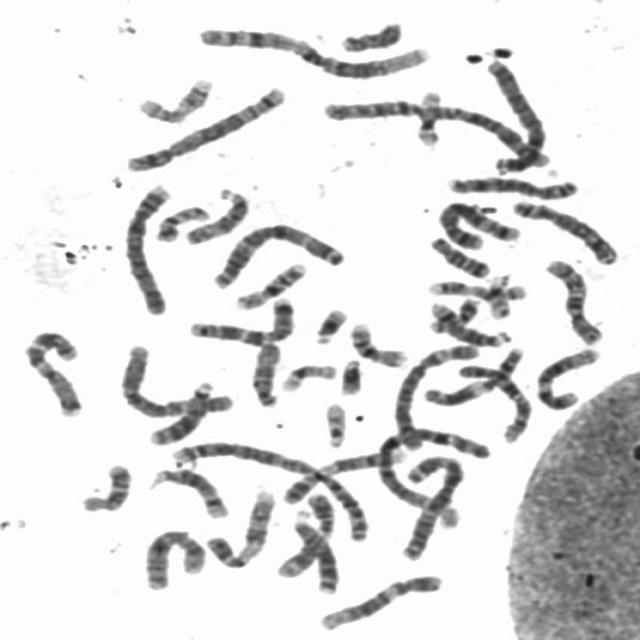A1: (192, 20, 434, 80), (370, 422, 493, 530)
A2: (164, 436, 374, 544), (316, 93, 554, 172)
A3: (206, 217, 348, 290), (396, 449, 468, 562)
B4: (481, 54, 550, 174), (120, 178, 174, 316)
B5: (121, 80, 288, 174), (433, 197, 524, 251)
C10: (455, 358, 536, 444), (540, 252, 606, 346)
C11: (417, 341, 529, 407), (269, 487, 339, 580)
C12: (314, 568, 446, 632), (529, 342, 603, 412)
C6: (390, 339, 483, 452), (115, 339, 237, 418)
C7: (16, 324, 84, 418), (183, 294, 298, 346)
C8: (506, 194, 622, 266), (442, 170, 582, 202)
C9: (278, 445, 409, 506), (201, 485, 278, 569)
D13: (144, 376, 216, 447), (288, 505, 342, 596)
D14: (146, 463, 231, 520), (424, 297, 510, 348)
D15: (180, 184, 252, 247), (245, 338, 282, 409)
E16: (230, 257, 311, 311), (344, 316, 410, 369)
E17: (132, 72, 216, 125), (421, 275, 530, 301)
E18: (424, 230, 494, 280), (75, 459, 134, 513)
F19: (409, 85, 445, 148), (275, 359, 340, 393)
F20: (152, 202, 212, 243), (424, 294, 484, 334)
G21: (308, 302, 351, 346), (334, 353, 365, 396)
G22: (318, 396, 351, 450), (482, 269, 514, 321)
X: (139, 524, 209, 592)
Y: (335, 16, 405, 53)
